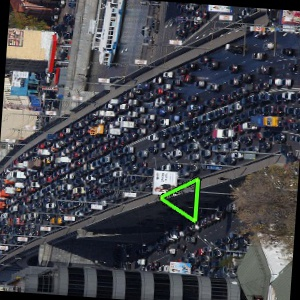triangle: (157, 174, 207, 225)
